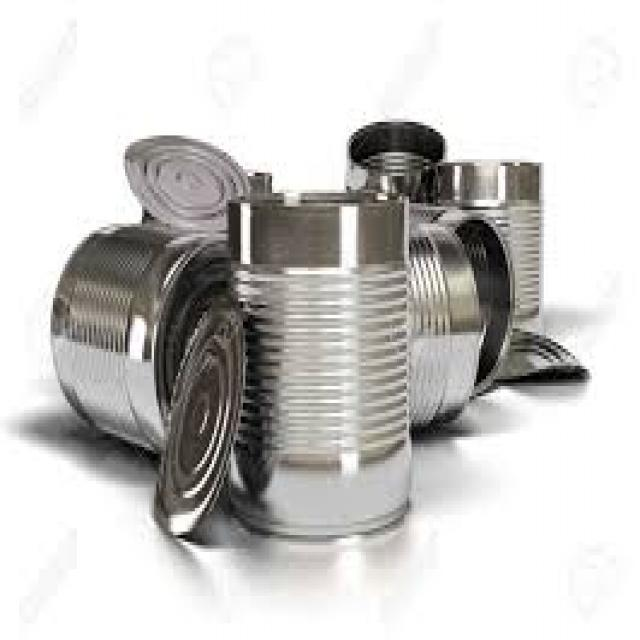recyclable: (225, 188, 416, 543), (48, 219, 230, 455), (151, 294, 247, 538), (428, 208, 519, 408), (438, 158, 548, 322), (408, 217, 486, 436), (123, 130, 252, 234), (467, 326, 600, 402)
